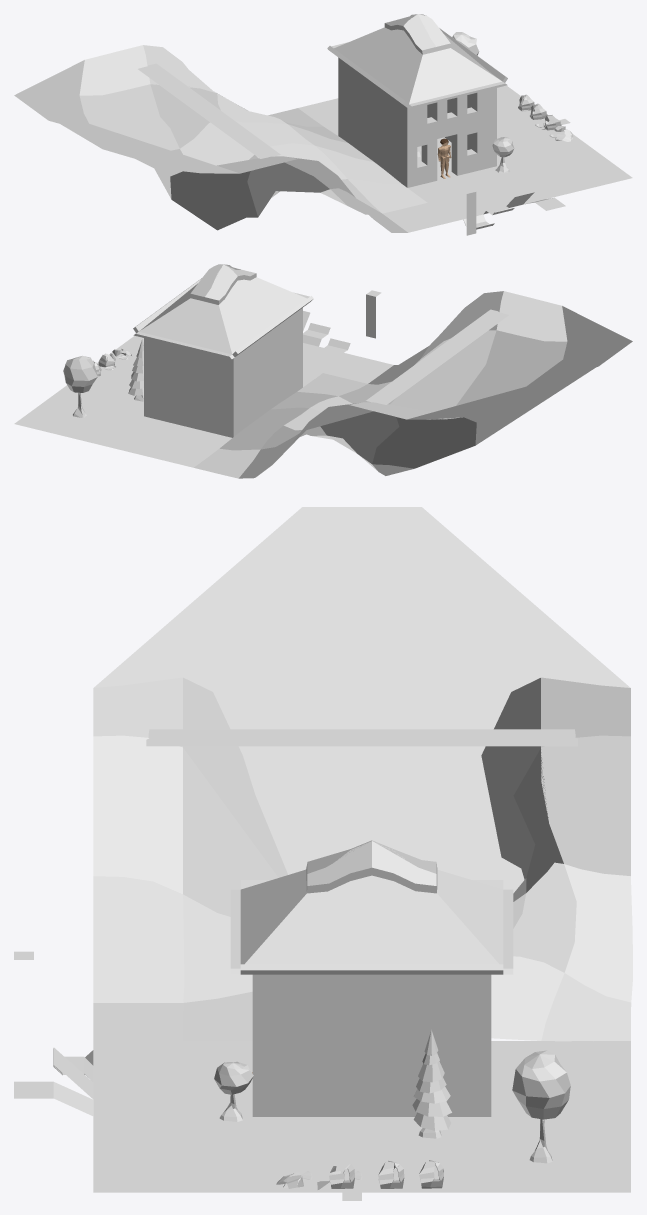
File: GM island.glb
3 renders of one model, top to bottom at view 1: azimuth 30°, elevation 25°; view 2: azimuth 150°, elevation 25°; view 3: azimuth 270°, elevation 25°, orthographic. The views are drawn at different scales.
Visible parts, largest first — view 1: Plane.031, house, floor, roof, Plane.086, TreeSmall, TorsoMan.001, Large Tree.002; view 2: Plane.031, house, floor, roof, Large Tree.002, TreePine, Plane.086, TileBlank.007; view 3: Plane.031, floor, house, roof, Large Tree.002, TreePine, TreeSmall.
Part boxes in pixels (box(x1,y1,x2,y2)): Plane.031: box(14, 45, 452, 232); house: box(338, 57, 496, 187); floor: box(298, 85, 632, 221); roof: box(327, 14, 507, 109); Plane.086: box(461, 187, 476, 235); TreeSmall: box(492, 137, 514, 173); TorsoMan.001: box(437, 138, 451, 178); Large Tree.002: box(452, 32, 479, 55); Plane.031: box(194, 291, 632, 478); house: box(144, 308, 302, 437); floor: box(14, 335, 348, 467); roof: box(133, 264, 313, 359); Large Tree.002: box(63, 355, 97, 417); TreePine: box(128, 339, 143, 401); Plane.086: box(366, 290, 381, 338); TileBlank.007: box(303, 323, 330, 346); Plane.031: box(93, 507, 632, 1041); floor: box(93, 1041, 630, 1192); house: box(252, 974, 491, 1116); roof: box(230, 840, 513, 974); Large Tree.002: box(512, 1050, 570, 1163); TreePine: box(412, 1030, 451, 1138); TreeSmall: box(214, 1061, 253, 1121).
Size of the model in its own units: 53.57 by 14.55 by 31.12.
43 materials, 4 textured.
